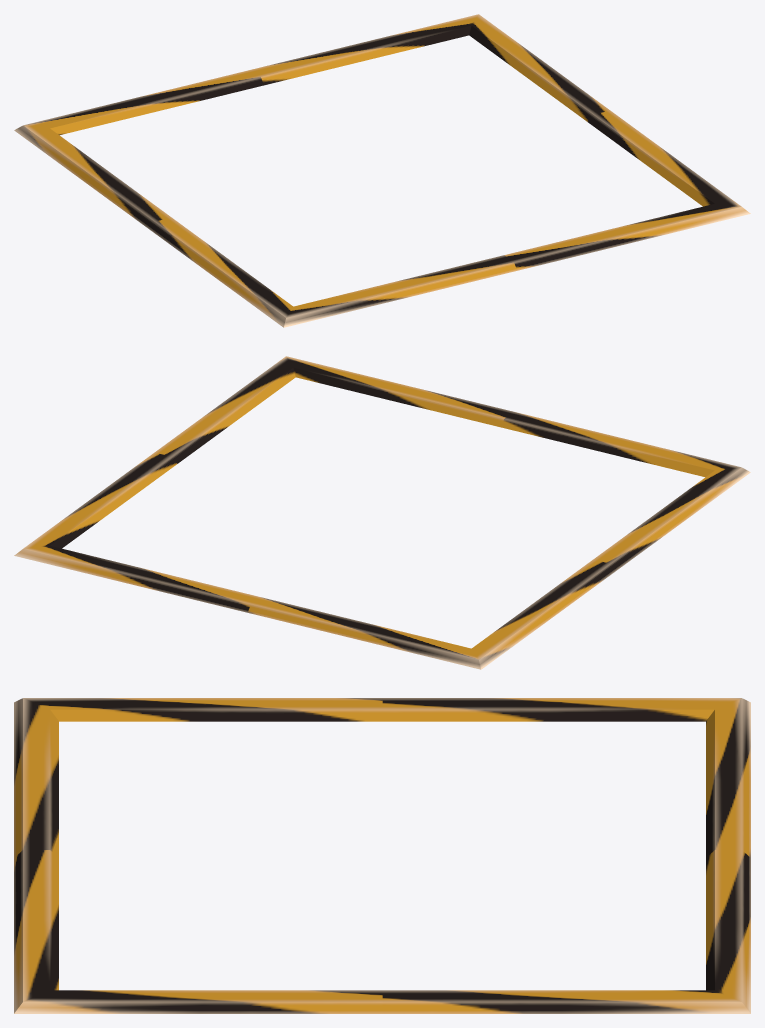
File: SquareFrame.fbx
3 renders of one model, top to bottom at view 1: azimuth 30°, elevation 25°; view 2: azimuth 150°, elevation 25°; view 3: azimuth 270°, elevation 25°, orthographic. The views are drawn at different scales.
Parts seen in each view (by area): view 1: SquarePLataform; view 2: SquarePLataform; view 3: SquarePLataform.
Part boxes in pixels (box(x1,y1,x2,y2)): SquarePLataform: box(14, 14, 750, 327); SquarePLataform: box(14, 356, 750, 669); SquarePLataform: box(14, 698, 750, 1013).
Bounding box in the file's own units: 200 × 2.45 × 200.
